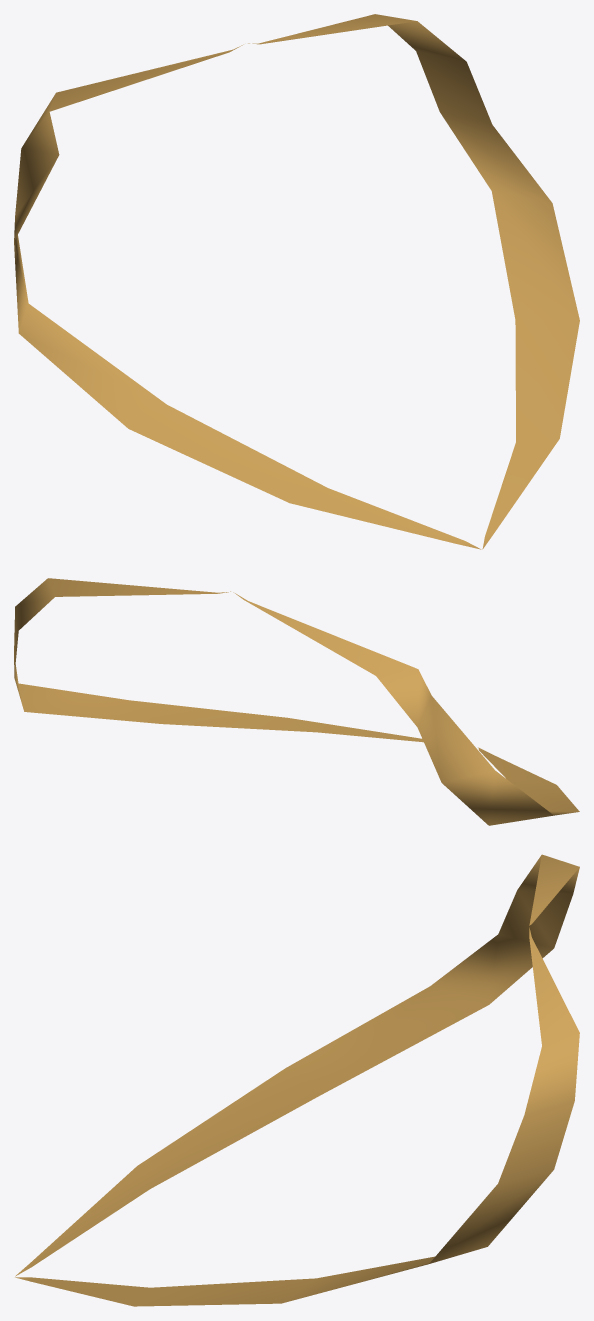
Rendered from abdomen_5_tergum.obj.
3 renders of one model, top to bottom at view 1: azimuth 30°, elevation 25°; view 2: azimuth 150°, elevation 25°; view 3: azimuth 270°, elevation 25°, orthographic. The views are drawn at different scales.
Bounding box in the file's own units: 0.0722 × 0.0427 × 0.0619.
